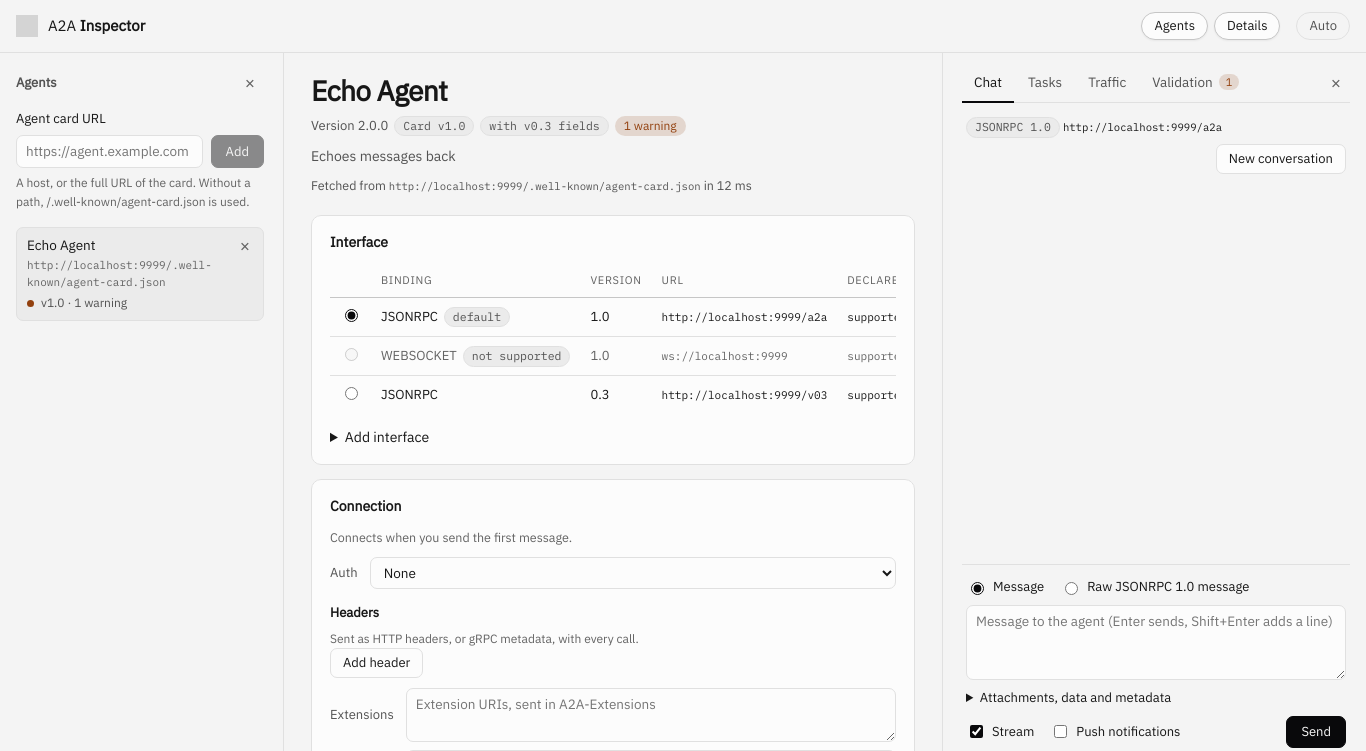
Test: App › talking to agents › shows agent errors and links to their traffic
Expected: the heading "Echo Agent" is shown, [311,72,447,109]
Click the checkbox labelled "Stream".
click(976, 732)  # box [970,725,983,738]
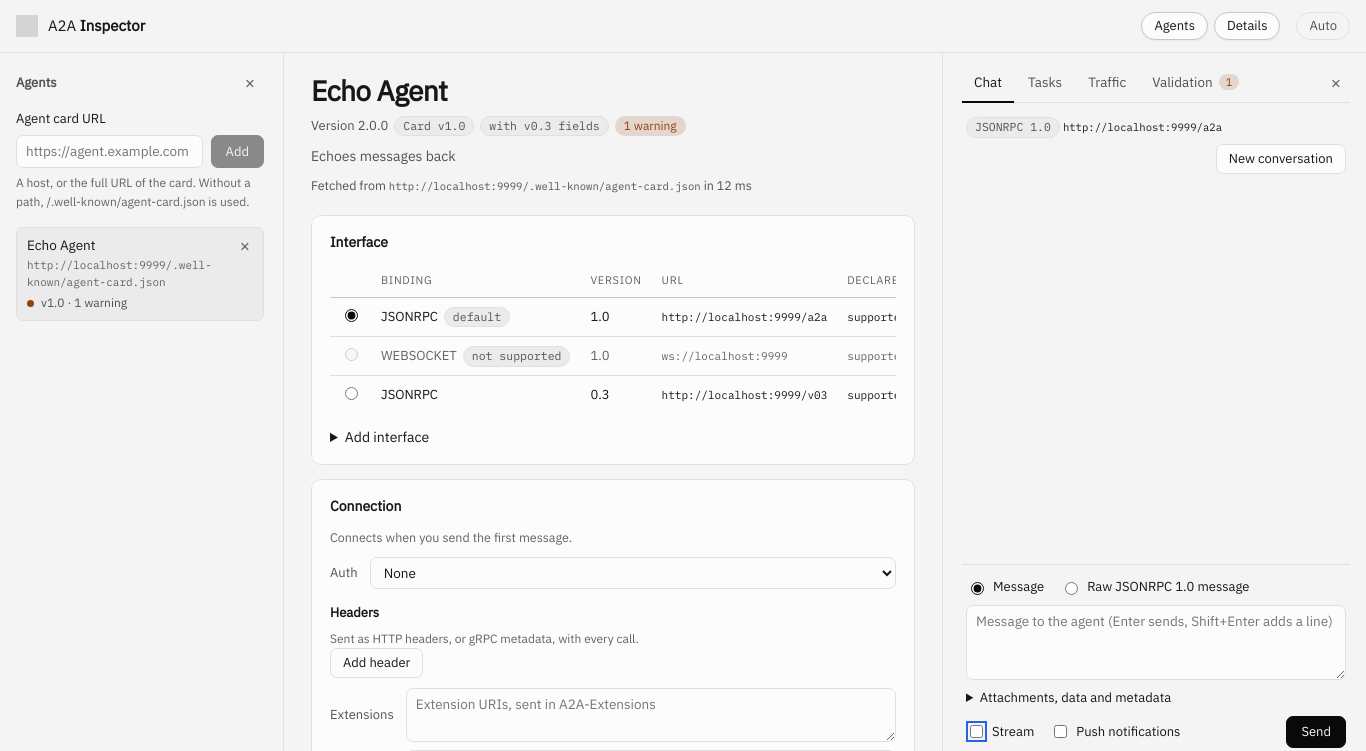
Type "hi" into the text box labelled "Message".
click(1156, 642); type("hi")  # box [966,605,1346,680]
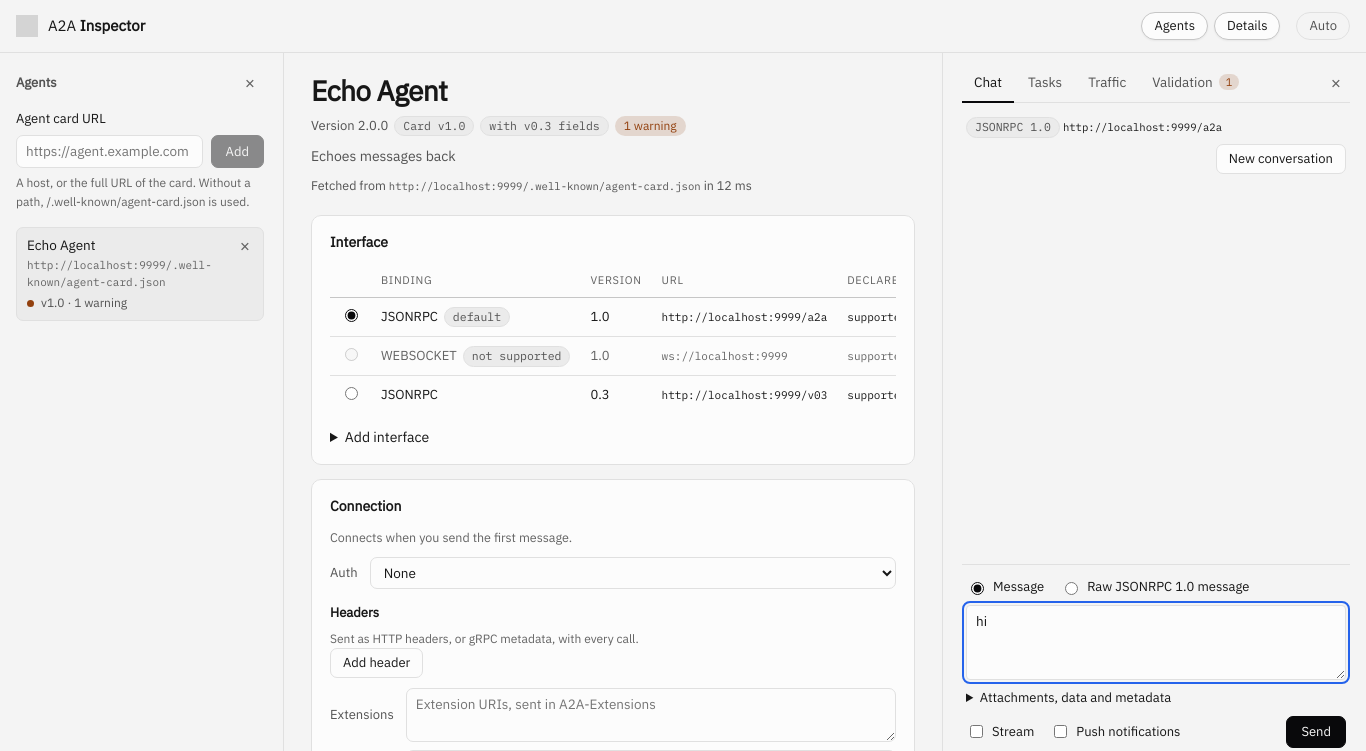
Click the button "Send".
click(1316, 732)  # box [1286,716,1346,748]
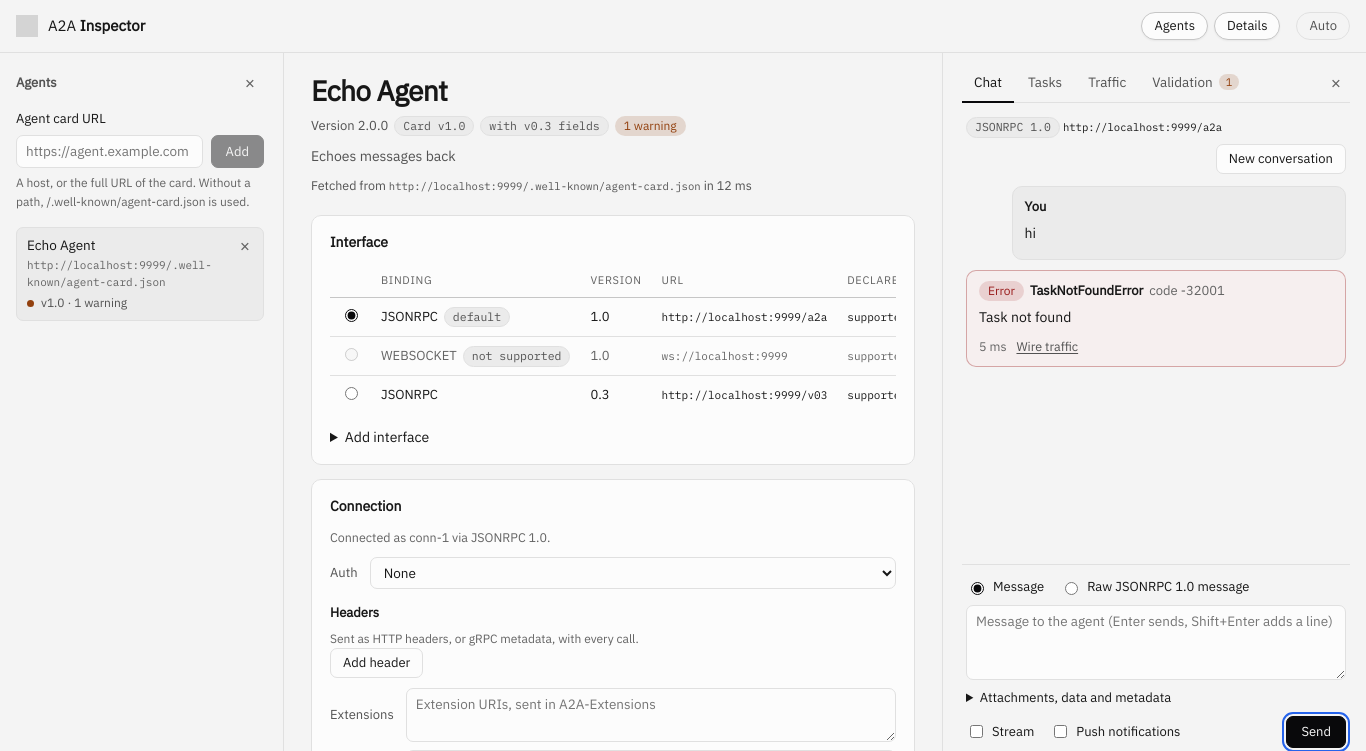
Expected: the text "TaskNotFoundError" is shown, [1030,281,1143,301]
Click the button "Wire traffic".
click(1047, 346)  # box [1016,337,1078,356]
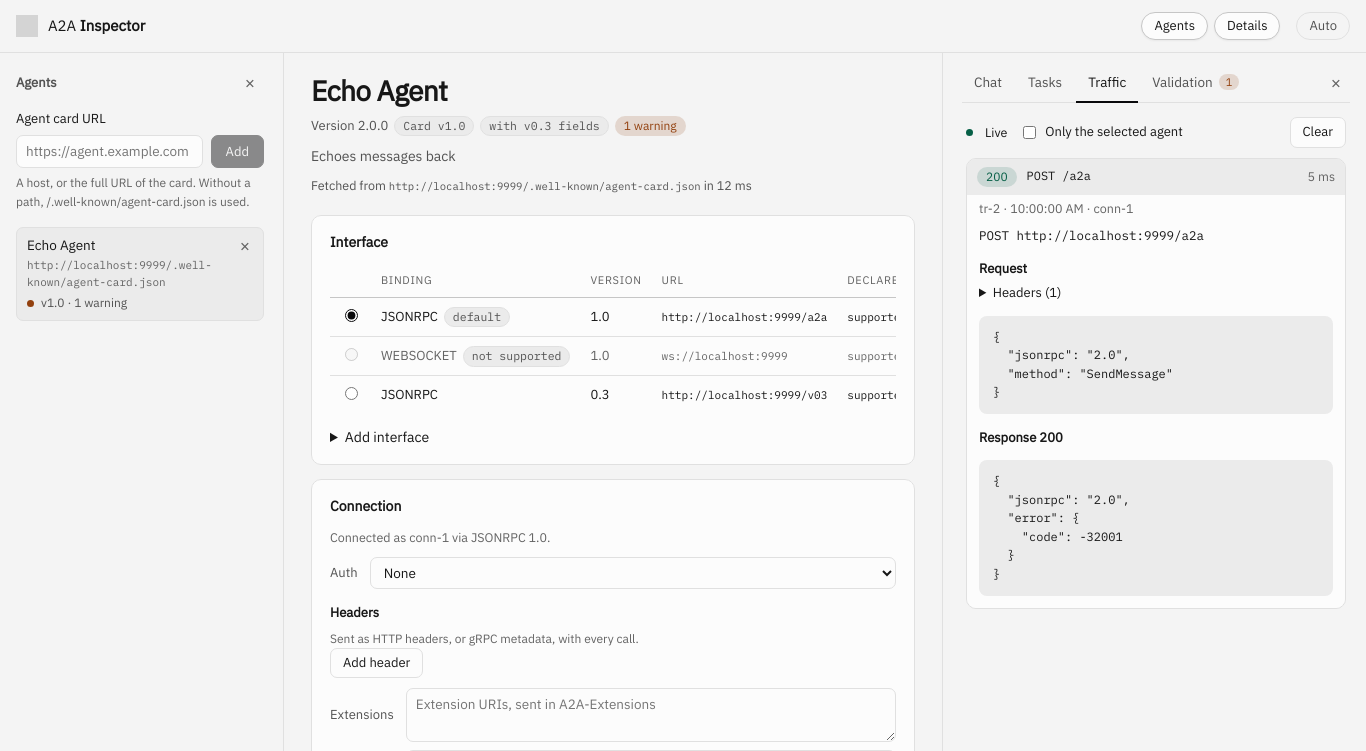
Expected: the text named "Request body" shows "\"method\": \"SendMessage\"", [993,329,1173,399]
